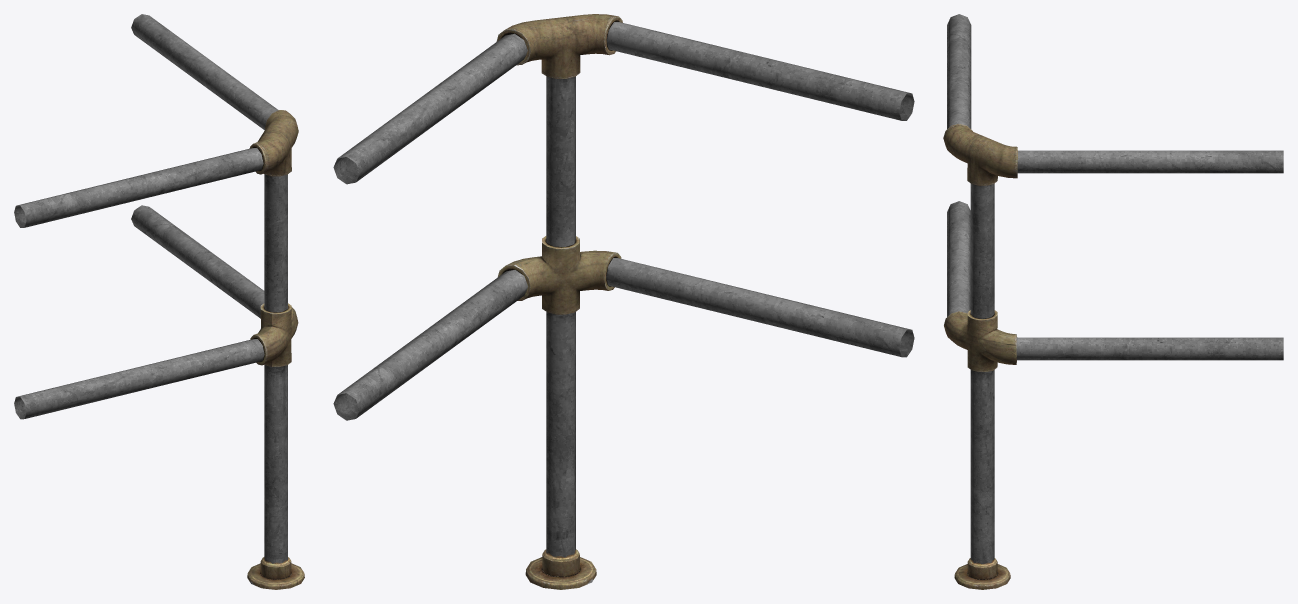
File: railing_pplant_turn.dae
The picture shows the model from 3 angles, left to right: view 1: azimuth 30°, elevation 25°; view 2: azimuth 150°, elevation 25°; view 3: azimuth 270°, elevation 25°; orthographic projection. The views are drawn at different scales.
Parts seen in each view (by area): view 1: railing_pplant_turn_chainlink; view 2: railing_pplant_turn_chainlink; view 3: railing_pplant_turn_chainlink.
Part boxes in pixels (bbox=[...]): railing_pplant_turn_chainlink: bbox=[14, 14, 304, 589]; railing_pplant_turn_chainlink: bbox=[333, 14, 914, 589]; railing_pplant_turn_chainlink: bbox=[943, 14, 1283, 589].
Size of the model in its own units: 1.05 by 1.49 by 1.05.
